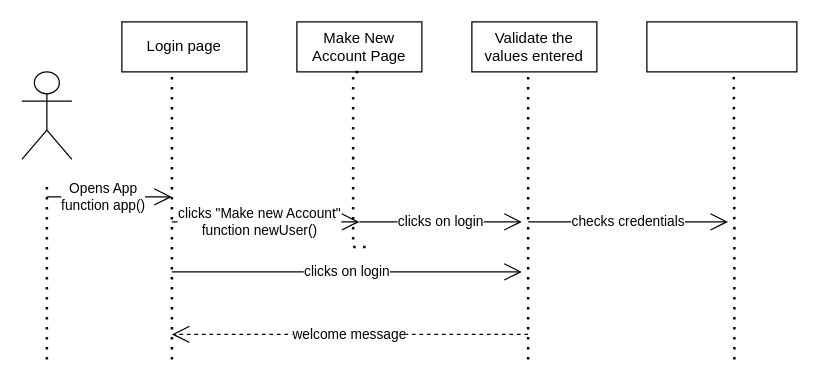
The diagram is 819 pixels wide and 384 high, and some of its shapes have lost their labels. The box of each missing label's shape, as (x1, y1, x2, y2) in pixels:
Store in JSON newUserAccount = {}: (646, 21, 797, 72)
User: (21, 71, 72, 159)
